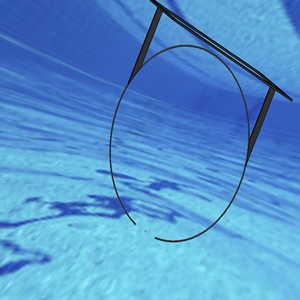circle: (108, 0, 293, 244)
